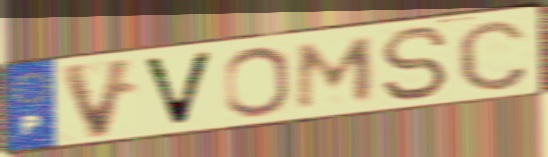C: (453, 16, 532, 94)
M: (293, 34, 379, 112)
O: (221, 44, 294, 119)
S: (377, 24, 452, 103)
V: (56, 54, 140, 142), (137, 49, 218, 129)
